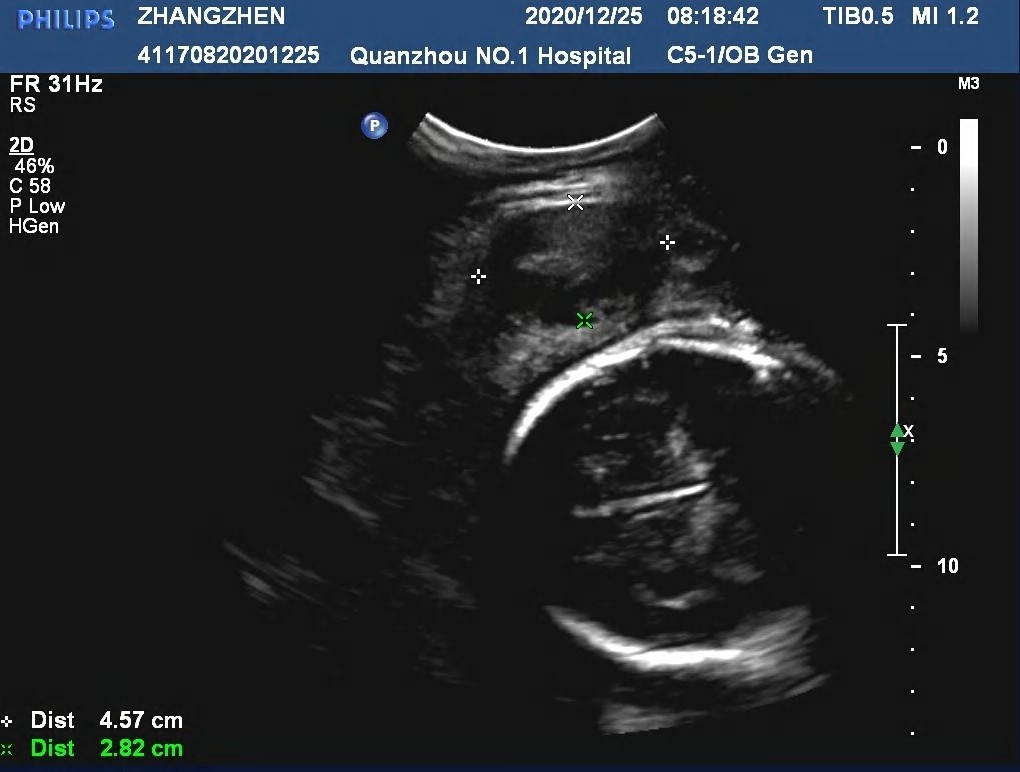肌瘤: (481, 206, 672, 326)
